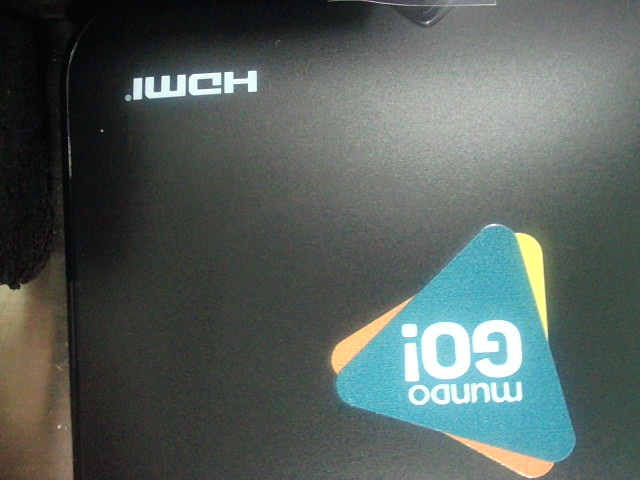AP_IPGMundoGO: (312, 221, 597, 479)
